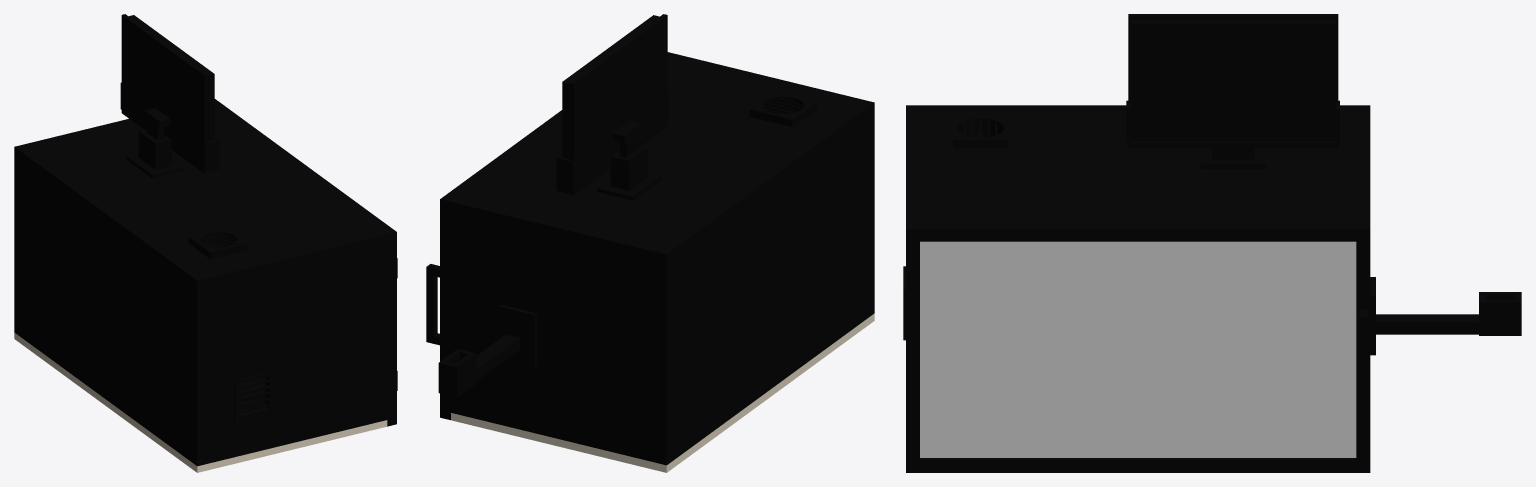
File: testobjekt.glb
3 renders of one model, left to right at view 1: azimuth 30°, elevation 25°; view 2: azimuth 150°, elevation 25°; view 3: azimuth 270°, elevation 25°, orthographic. The views are drawn at different scales.
Parts seen in each view (by area): view 1: object_47, object_48, object_16, object_27, object_40, object_80, object_15, object_20, object_29, object_21, object_25; view 2: object_47, object_46, object_16, object_27, object_80, object_40, object_31, object_19, object_15, object_20, object_29, object_30 (+3 smaller); view 3: object_39, object_16, object_40, object_28, object_29, object_30, object_19, object_27, object_15, object_26, object_21, object_34.
Boxes of the visible parts, left/top/right/bottom form: object_47: left=14, top=153, right=203, bottom=466; object_48: left=203, top=241, right=387, bottom=464; object_16: left=14, top=108, right=387, bottom=287; object_27: left=121, top=14, right=207, bottom=171; object_40: left=214, top=99, right=396, bottom=426; object_80: left=14, top=332, right=387, bottom=472; object_15: left=188, top=227, right=248, bottom=259; object_20: left=138, top=129, right=171, bottom=169; object_29: left=129, top=15, right=214, bottom=141; object_21: left=126, top=153, right=183, bottom=178; object_25: left=203, top=139, right=219, bottom=170; object_47: left=659, top=110, right=874, bottom=465; object_46: left=451, top=209, right=659, bottom=463; object_16: left=451, top=52, right=874, bottom=261; object_27: left=569, top=14, right=667, bottom=193; object_80: left=451, top=313, right=874, bottom=472; object_40: left=440, top=110, right=562, bottom=420; object_31: left=498, top=304, right=537, bottom=367; object_19: left=438, top=349, right=476, bottom=397; object_15: left=749, top=91, right=817, bottom=127; object_20: left=610, top=145, right=648, bottom=190; object_29: left=562, top=15, right=659, bottom=158; object_30: left=476, top=334, right=520, bottom=380; object_39: left=920, top=241, right=1356, bottom=457; object_16: left=906, top=105, right=1370, bottom=222; object_40: left=906, top=223, right=1370, bottom=472; object_28: left=1137, top=29, right=1328, bottom=135; object_29: left=1131, top=19, right=1335, bottom=141; object_30: left=1376, top=314, right=1478, bottom=334; object_19: left=1479, top=292, right=1521, bottom=335; object_27: left=1128, top=14, right=1338, bottom=102; object_15: left=953, top=116, right=1008, bottom=148; object_26: left=1128, top=141, right=1338, bottom=147; object_21: left=1200, top=147, right=1265, bottom=168; object_34: left=1359, top=313, right=1368, bottom=400.
Size of the model in its own units: 0.335 by 0.468 by 0.666.
